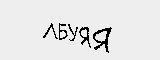Б: (57, 22, 70, 43)
Л: (44, 23, 56, 39)
У: (68, 26, 79, 42)
Я: (93, 26, 112, 53), (78, 25, 92, 48)
